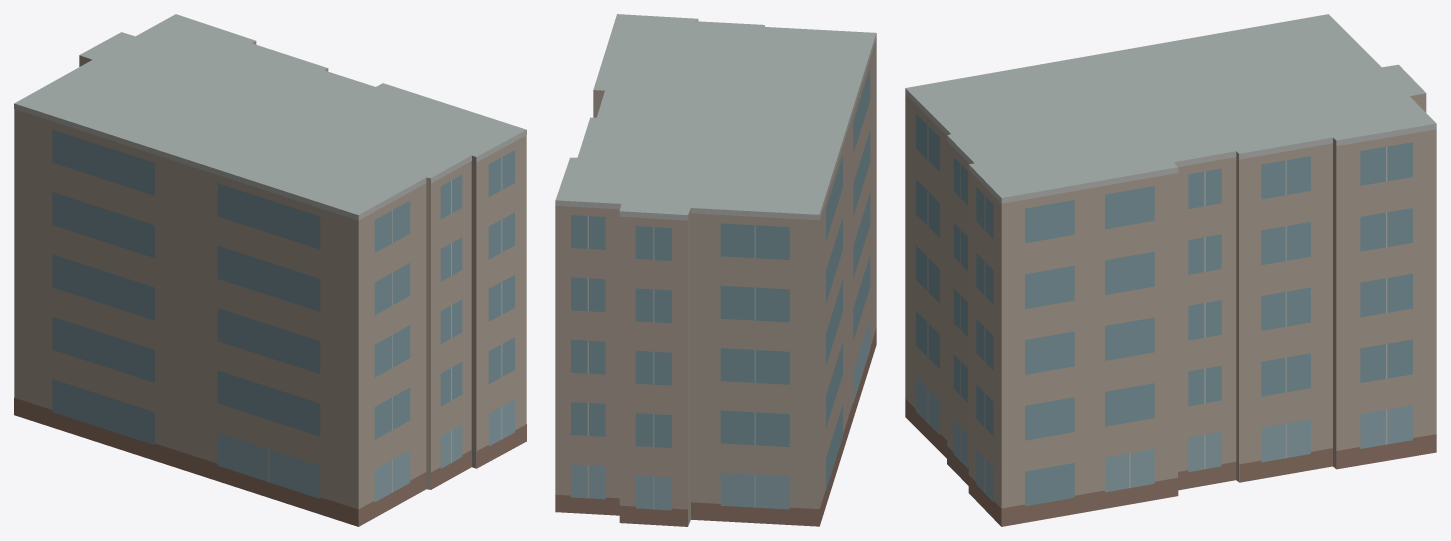
Rendered from survey-upis-33004395.glb.
3 renders of one model, left to right at view 1: azimuth 30°, elevation 25°; view 2: azimuth 150°, elevation 25°; view 3: azimuth 270°, elevation 25°, orthographic. The views are drawn at different scales.
Visible parts, largest first — view 1: survey-upis-33004395.tmp; view 2: survey-upis-33004395.tmp; view 3: survey-upis-33004395.tmp.
Boxes of the visible parts, x1=… form: survey-upis-33004395.tmp: x1=14, y1=14, x2=526, y2=526; survey-upis-33004395.tmp: x1=555, y1=14, x2=876, y2=526; survey-upis-33004395.tmp: x1=905, y1=14, x2=1436, y2=526.
Size of the model in its own units: 16.82 by 14 by 20.51.
